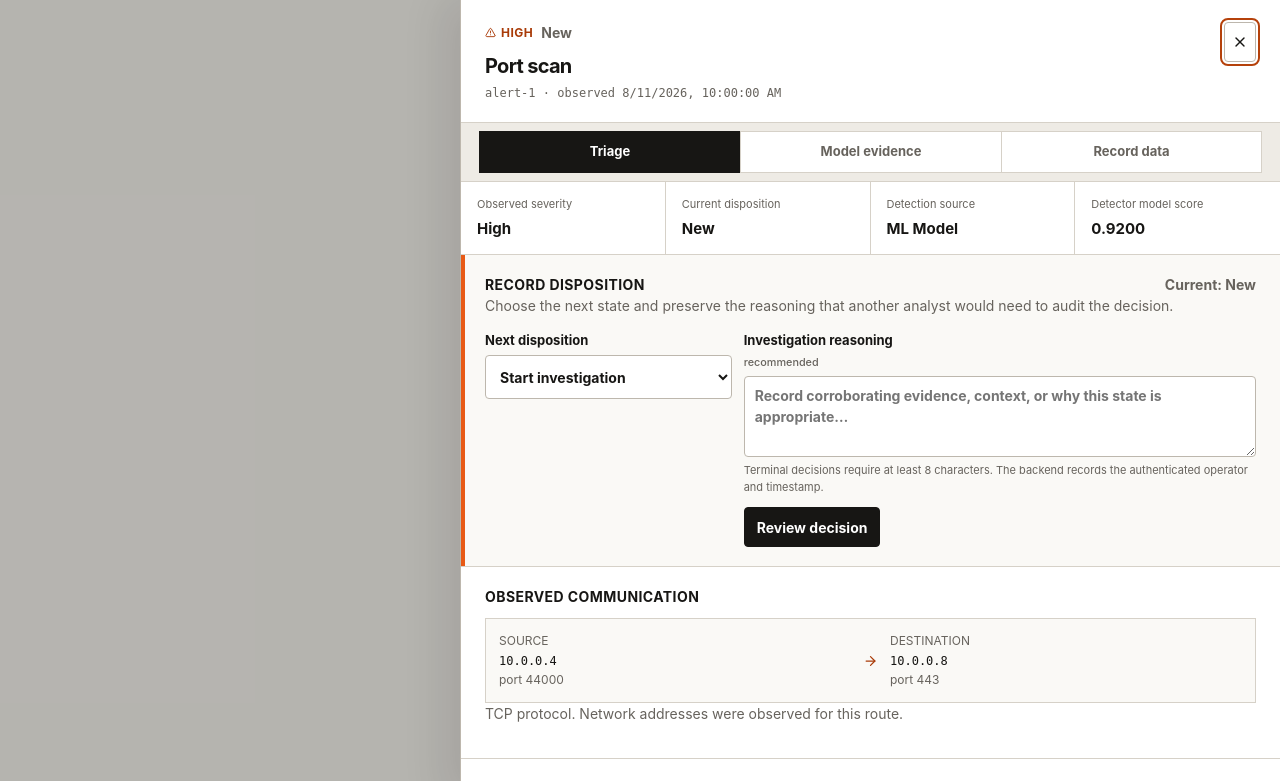
AlertInvestigationView › requires reasoning and confirmation before a terminal disposition
Select "Mark false positive" in the dropdown labelled "Next disposition": {"x": 608, "y": 377} x1=485 y1=355 x2=732 y2=399
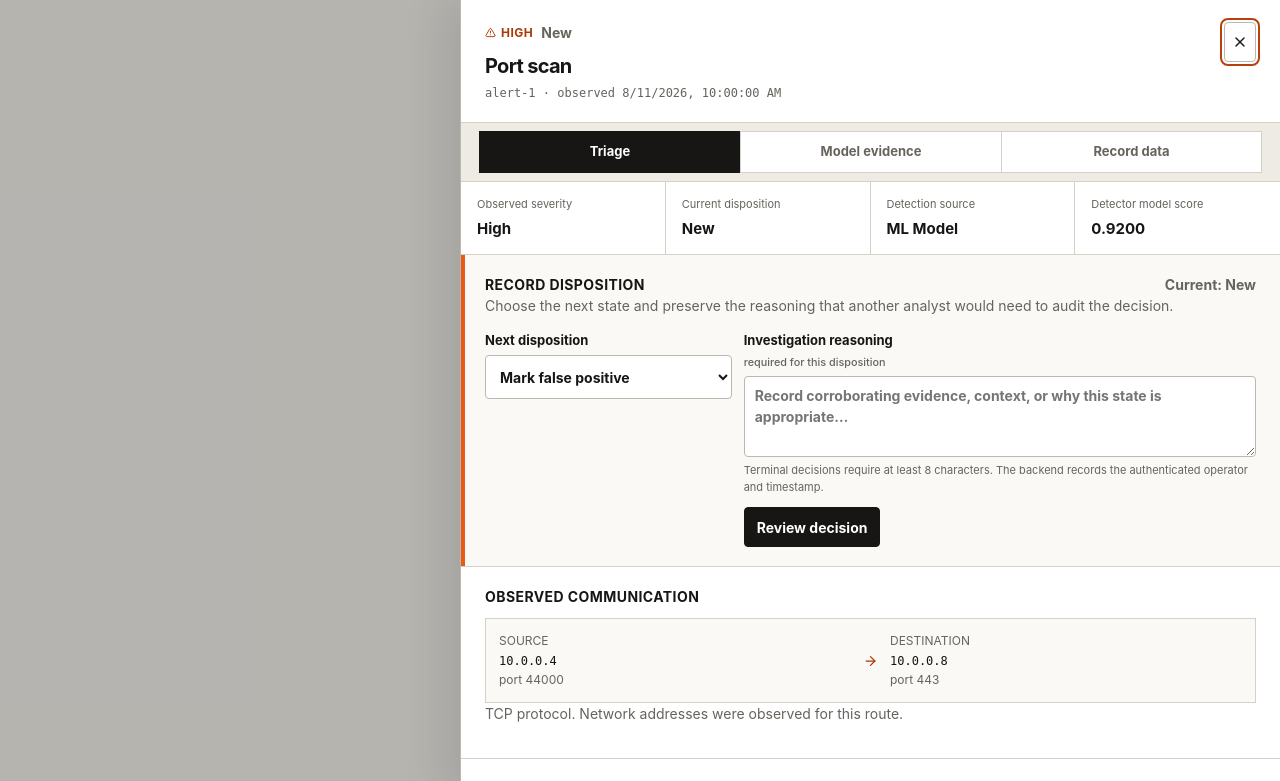
Click the button "Review decision": {"x": 812, "y": 527} x1=744 y1=507 x2=880 y2=547
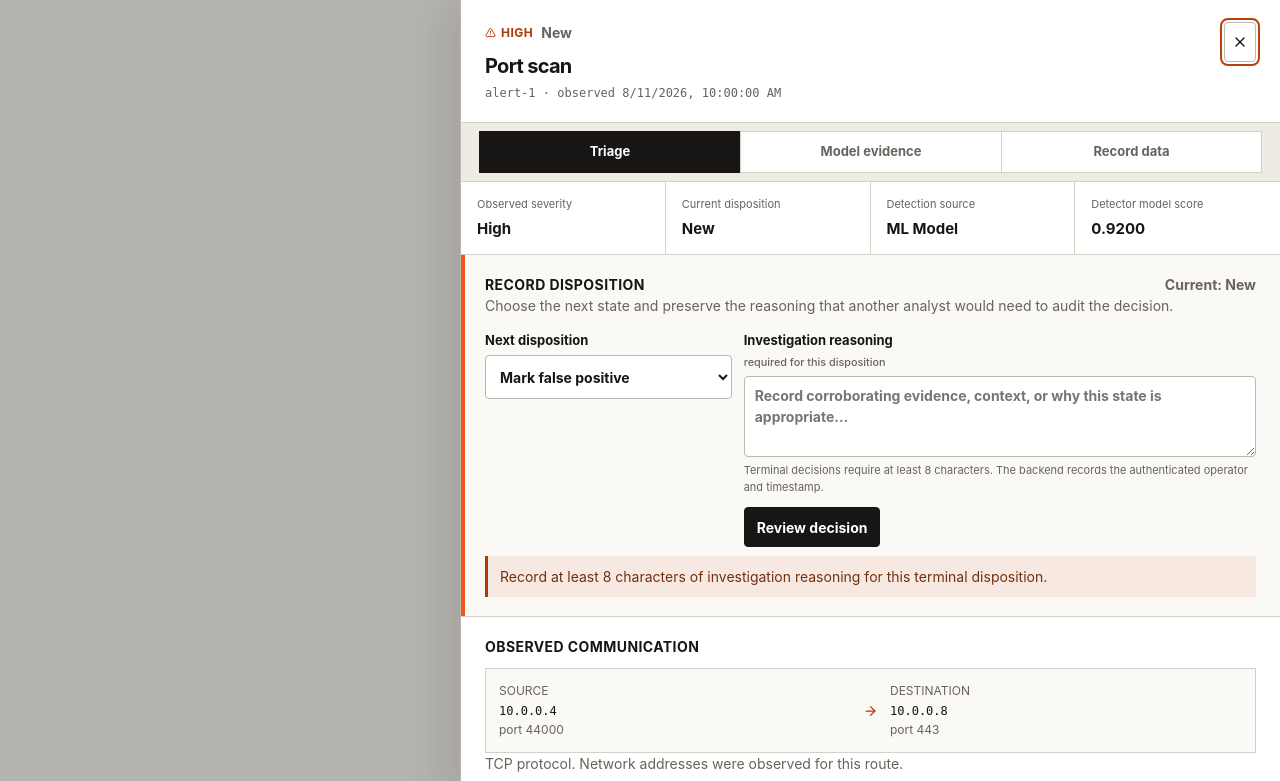
Result: the message shows "at least 8 characters" at x1=500 y1=568 x2=1047 y2=585
Replace the text in the text box labelled "Investigation reasoning required for this disposition" with "Approved scanner activity": {"x": 1000, "y": 417} x1=744 y1=376 x2=1256 y2=457
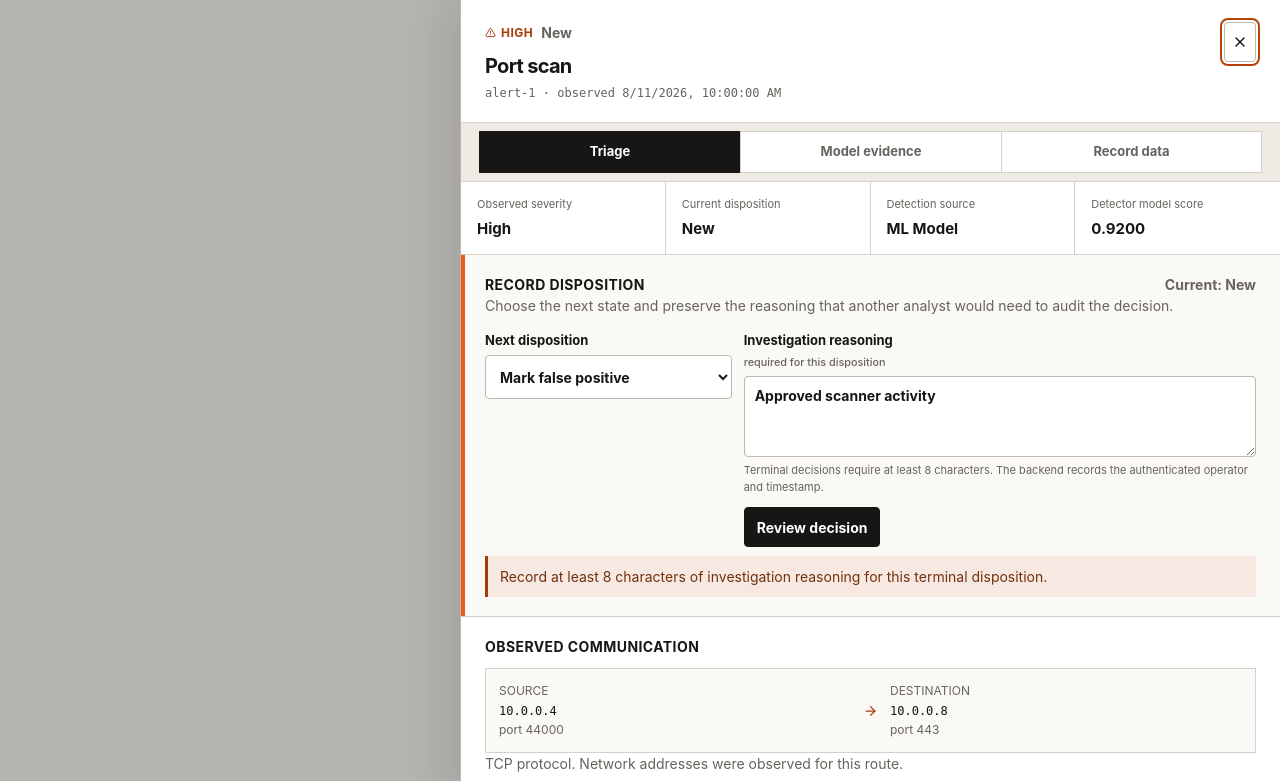
Click the button "Review decision": {"x": 812, "y": 527} x1=744 y1=507 x2=880 y2=547
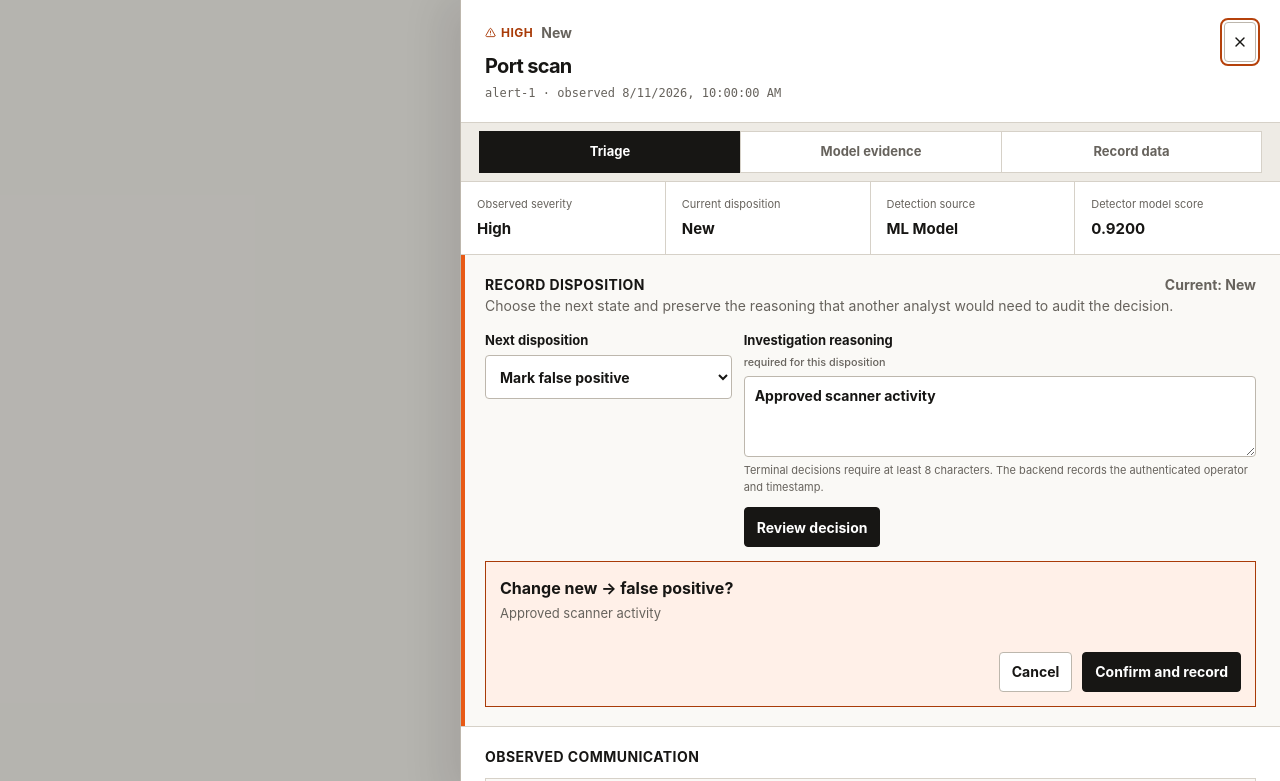
Result: the element named "Confirm analyst disposition" shows "new → false positive" at x1=485 y1=561 x2=1256 y2=707
Click the button "Confirm and record": {"x": 1162, "y": 672} x1=1082 y1=652 x2=1241 y2=692
(page scrolled)
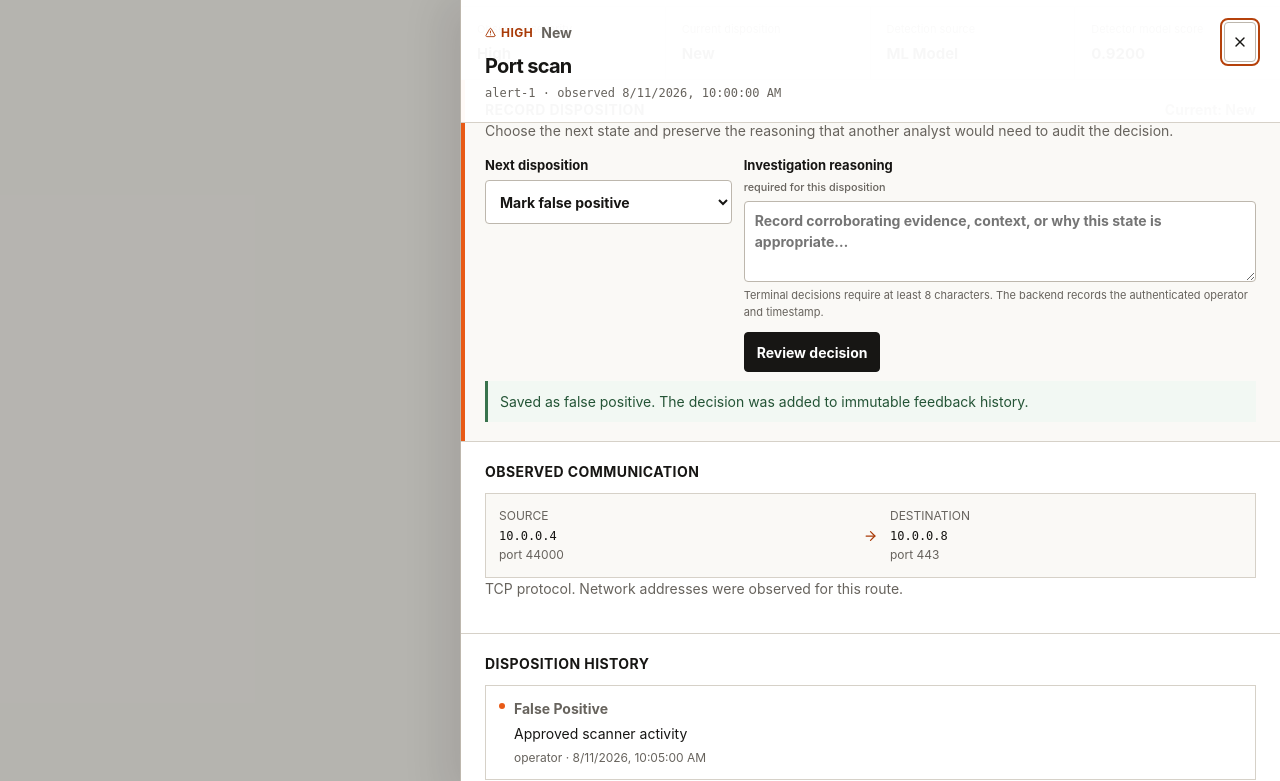
Result: the text "Approved scanner activity" is shown at x1=514 y1=725 x2=687 y2=742
Result: the message shows "immutable feedback history" at x1=500 y1=393 x2=1029 y2=410
